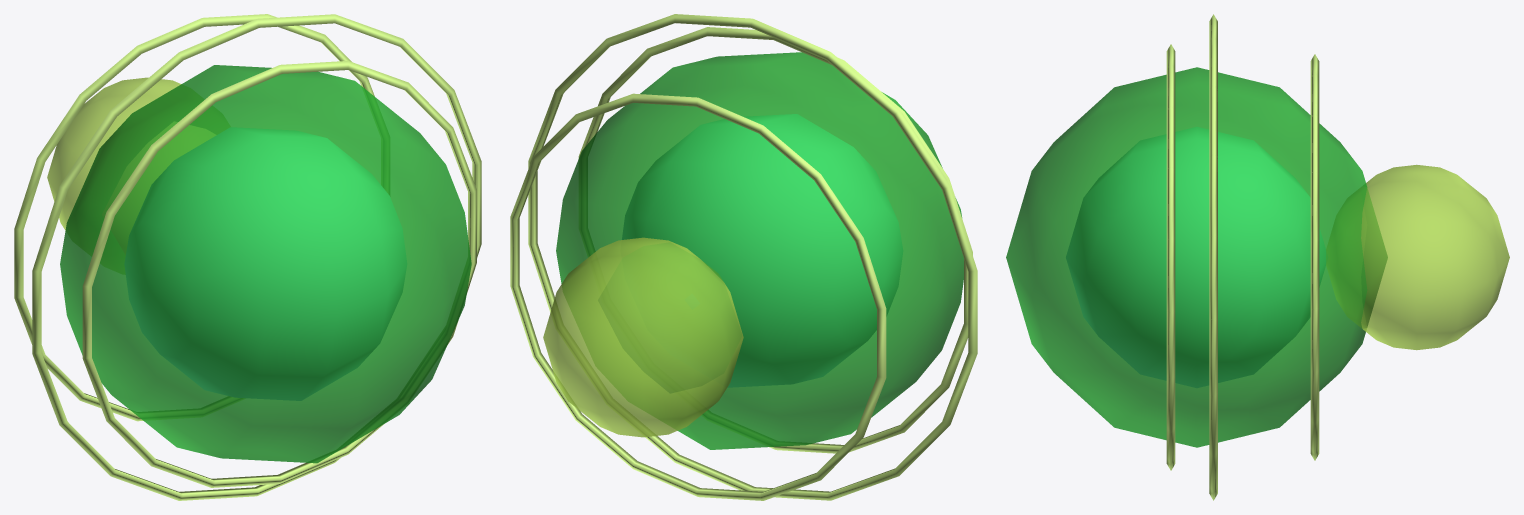
The model's file is electricBall.FBX.
The picture shows the model from 3 angles, left to right: view 1: azimuth 30°, elevation 25°; view 2: azimuth 150°, elevation 25°; view 3: azimuth 270°, elevation 25°; orthographic projection. The views are drawn at different scales.
Visible parts, largest first — view 1: Object001, Sphere001, Torus003, Torus001, Sphere003, Torus002; view 2: Object001, Sphere001, Sphere003, Torus001, Torus002, Torus003; view 3: Object001, Sphere001, Sphere003, Torus001, Torus003, Torus002.
Part boxes in pixels (x1,y1,x2,y2): Object001: (60,65,471,463); Sphere001: (124,127,406,400); Torus003: (82,61,476,487); Torus001: (32,14,481,500); Sphere003: (47,77,216,254); Torus002: (14,14,389,421); Object001: (556,52,963,449); Sphere001: (622,114,902,387); Sphere003: (543,237,743,437); Torus001: (528,14,977,500); Torus002: (510,93,886,500); Torus003: (578,27,972,453); Object001: (1006,67,1387,447); Sphere001: (1066,127,1327,387); Sphere003: (1326,164,1509,350); Torus001: (1209,14,1217,500); Torus003: (1166,44,1175,470); Torus002: (1310,54,1319,460).
Size of the model in its own units: 190 by 193 by 199.
